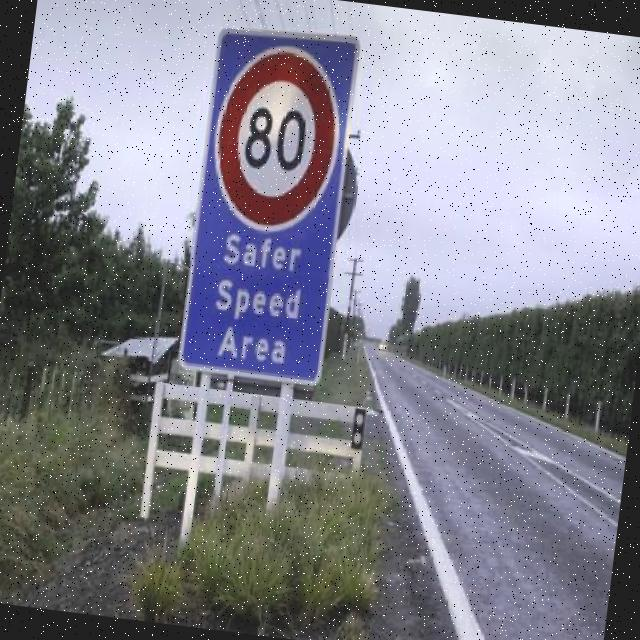Ograniczenie predkosci do 80: (208, 44, 344, 235)
